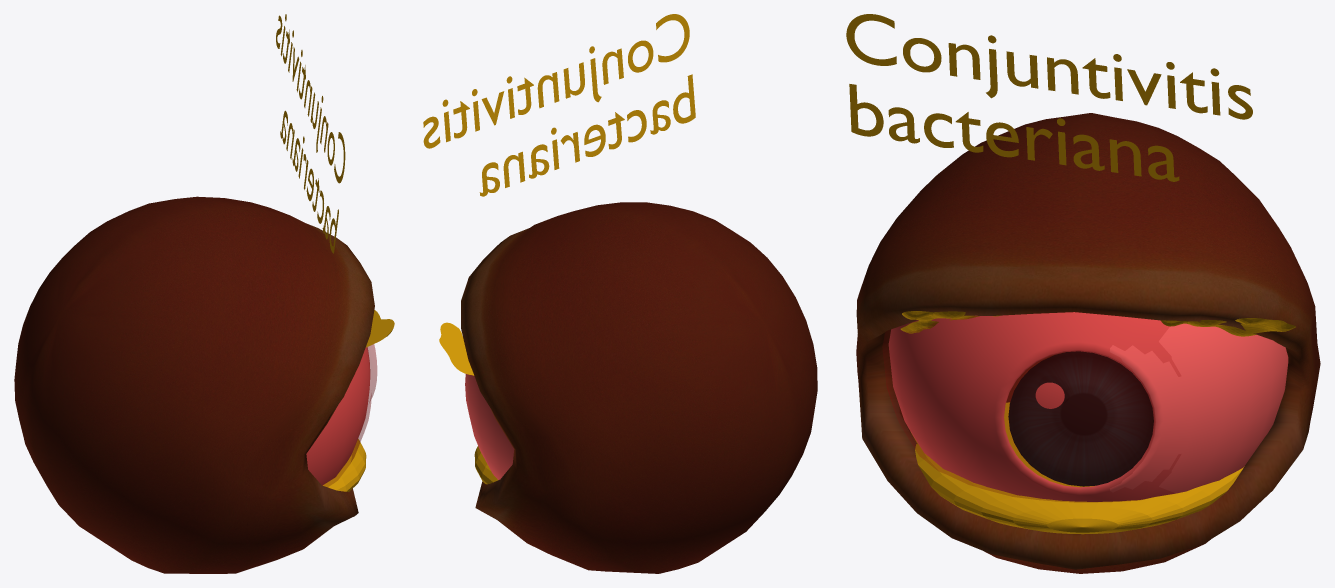
The model's file is ModeloOjo.obj.
3 renders of one model, left to right at view 1: azimuth 30°, elevation 25°; view 2: azimuth 150°, elevation 25°; view 3: azimuth 270°, elevation 25°, orthographic. The views are drawn at different scales.
Parts seen in each view (by area): view 1: Ojo_Conjuntivitis_Part3, Ojo_Conjuntivitis_Part1, Ojo_Conjuntivitis_Part4, Conjuntivitis_Texto, Mucosa_3, Mucosa1.Object1; view 2: Ojo_Conjuntivitis_Part3, Conjuntivitis_Texto, Ojo_Conjuntivitis_Part4, Mucosa2.Object2; view 3: Ojo_Conjuntivitis_Part3, Ojo_Conjuntivitis_Part4, Ojo_Conjuntivitis_Part1, Ojo_Conjuntivitis_Part2, Conjuntivitis_Texto, Mucosa_3, Mucosa2.Object2, Mucosa1.Object1.
Boxes of the visible parts, x1,y1,x2,y2 form: Ojo_Conjuntivitis_Part3: [14, 196, 374, 573]; Ojo_Conjuntivitis_Part1: [306, 344, 376, 486]; Ojo_Conjuntivitis_Part4: [306, 347, 370, 485]; Conjuntivitis_Texto: [276, 14, 345, 253]; Mucosa_3: [323, 439, 366, 491]; Mucosa1.Object1: [365, 310, 394, 347]; Ojo_Conjuntivitis_Part3: [461, 202, 817, 573]; Conjuntivitis_Texto: [423, 14, 695, 196]; Ojo_Conjuntivitis_Part4: [465, 374, 514, 479]; Mucosa2.Object2: [439, 322, 474, 375]; Ojo_Conjuntivitis_Part3: [856, 113, 1320, 573]; Ojo_Conjuntivitis_Part4: [888, 312, 1288, 501]; Ojo_Conjuntivitis_Part1: [882, 312, 1180, 502]; Ojo_Conjuntivitis_Part2: [1008, 351, 1153, 486]; Conjuntivitis_Texto: [846, 14, 1252, 181]; Mucosa_3: [911, 402, 1244, 534]; Mucosa2.Object2: [1160, 318, 1295, 336]; Mucosa1.Object1: [900, 311, 999, 333].
Size of the model in its own units: 2.18 by 3.08 by 2.34.
